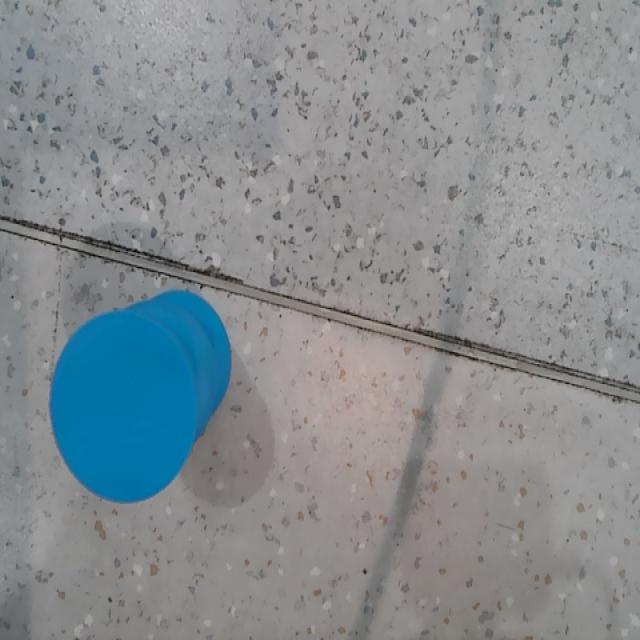b: (50, 312, 197, 502)
